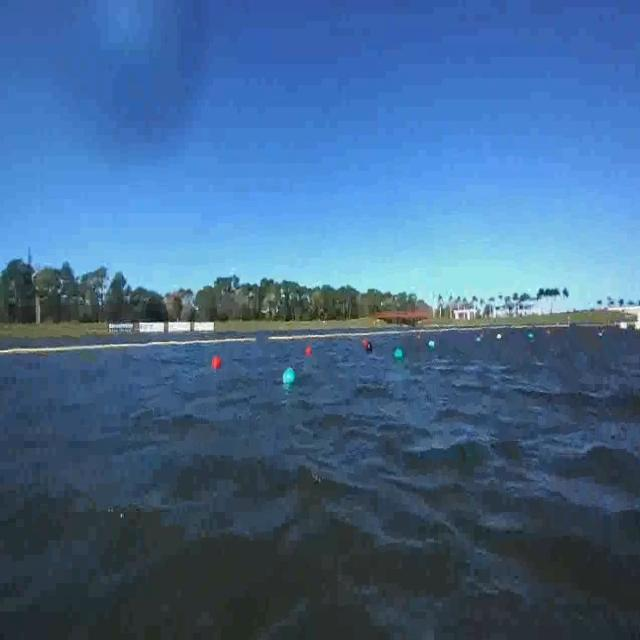green-buoy: (282, 368, 296, 386), (394, 348, 404, 361)
red-buoy: (212, 356, 222, 369), (306, 347, 313, 356)
red-column-buoy: (362, 340, 369, 350)
